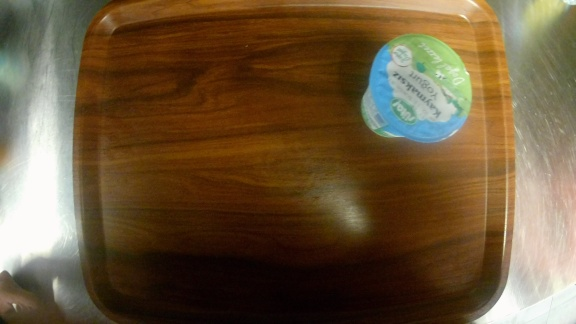yogurt: (358, 29, 476, 150)
